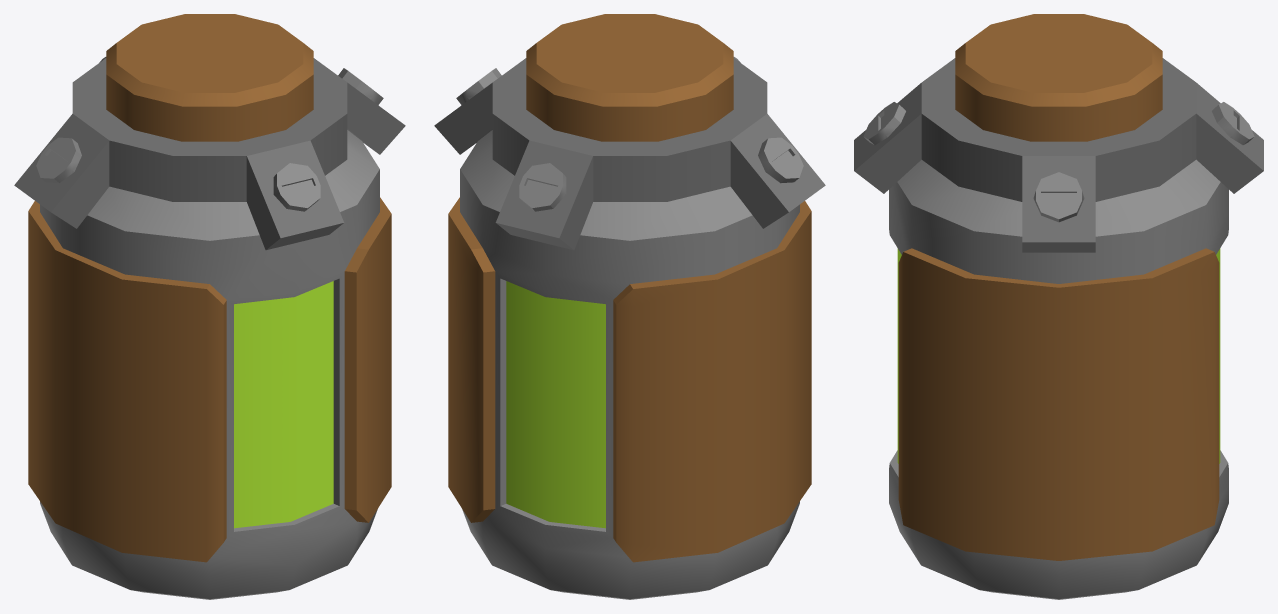
The model's file is quaternius-cyberpunk-pickup-tank.glb.
The picture shows the model from 3 angles, left to right: view 1: azimuth 30°, elevation 25°; view 2: azimuth 150°, elevation 25°; view 3: azimuth 270°, elevation 25°; orthographic projection.
Visible parts, largest first — view 1: Pickup_Tank; view 2: Pickup_Tank; view 3: Pickup_Tank.
Part boxes in pixels (x1,y1,x2,y2): Pickup_Tank: (14, 14, 405, 599); Pickup_Tank: (434, 14, 825, 599); Pickup_Tank: (854, 14, 1263, 599).
Bounding box in the file's own units: 0.2007 × 0.2647 × 0.2007.
